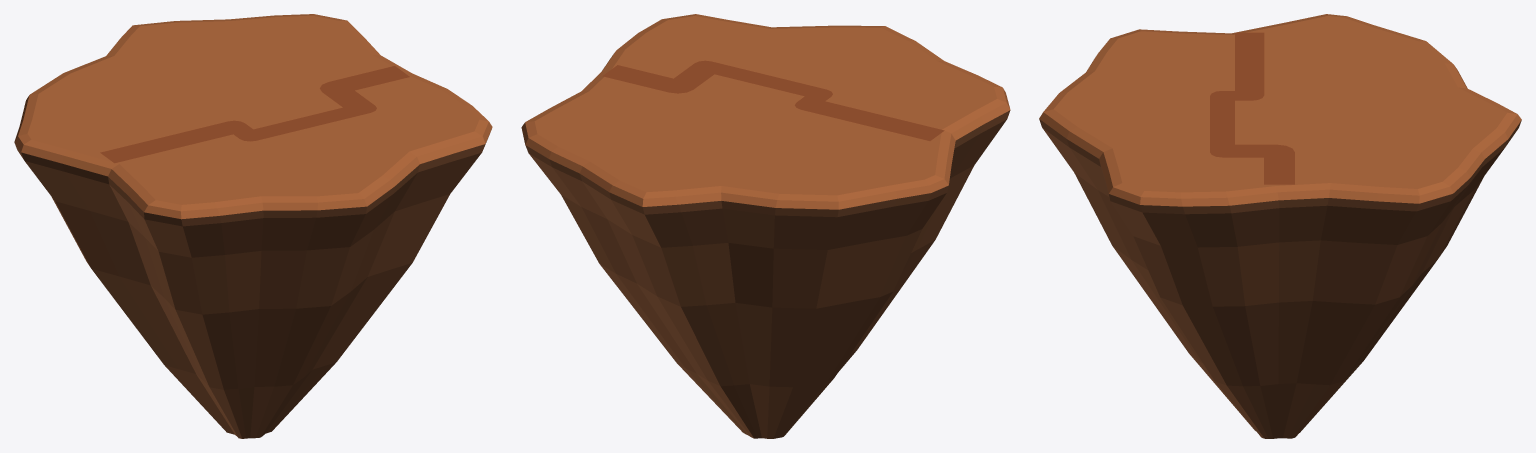
Rendered from Mountain.fbx.
The picture shows the model from 3 angles, left to right: view 1: azimuth 30°, elevation 25°; view 2: azimuth 150°, elevation 25°; view 3: azimuth 270°, elevation 25°; orthographic projection.
Visible parts, largest first — view 1: Mountain; view 2: Mountain; view 3: Mountain.
Part boxes in pixels (x1=…): Mountain: x1=14, y1=14, x2=492, y2=438; Mountain: x1=521, y1=14, x2=1010, y2=438; Mountain: x1=1039, y1=14, x2=1521, y2=438.
Size of the model in its own units: 28.94 by 31.39 by 23.05.
